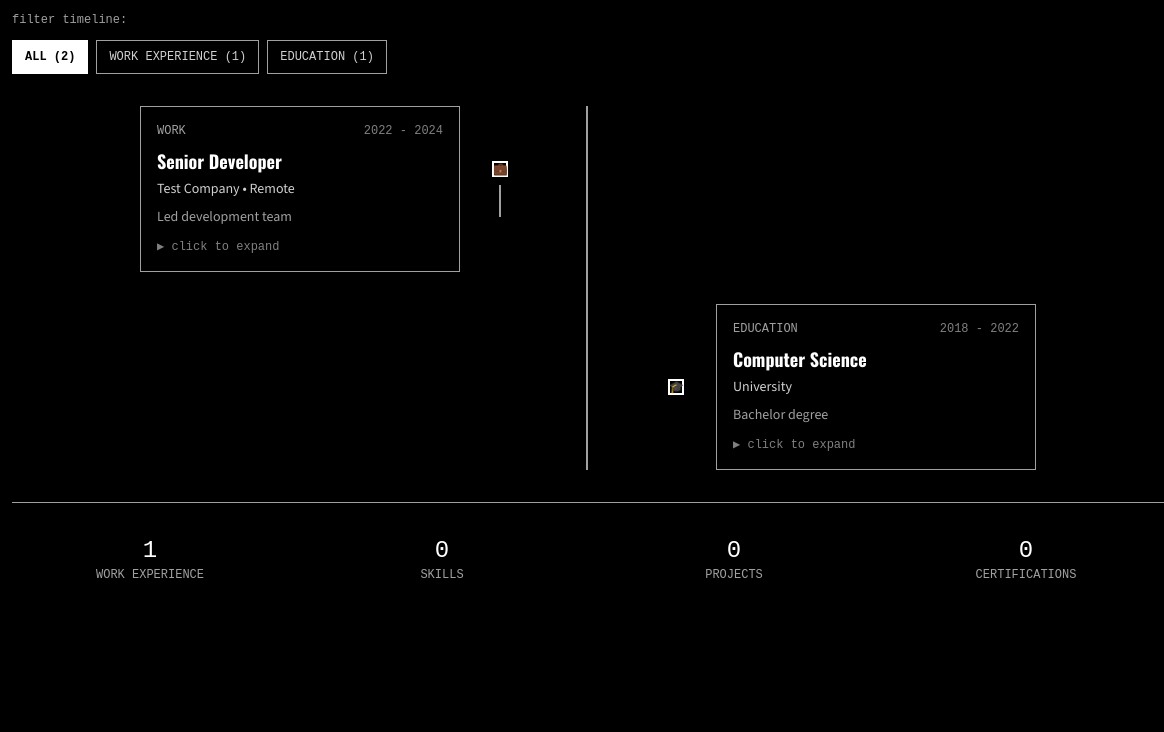
Test: CVTimeline › Filter Functionality › should show all items when ALL filter is selected
Click the button "WORK EXPERIENCE (1)". click: (178, 57)
box: [96,40,259,74]
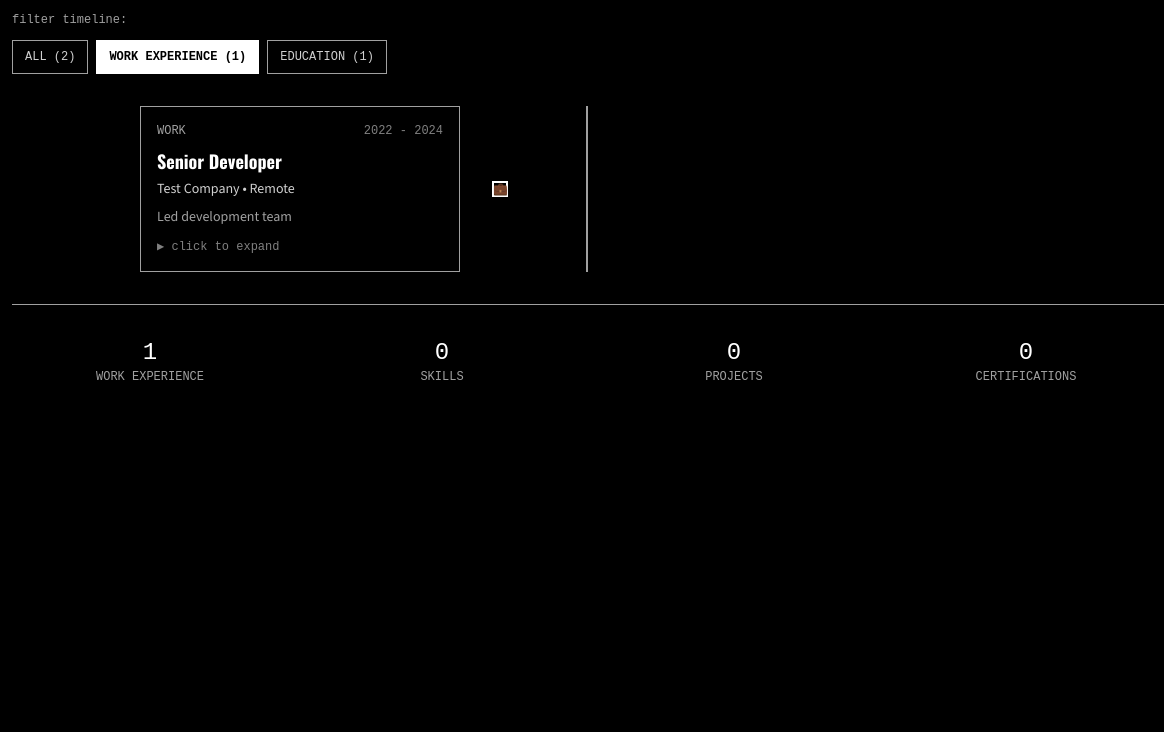
Click the button "ALL (2)". click: (50, 57)
box: [12,40,88,74]
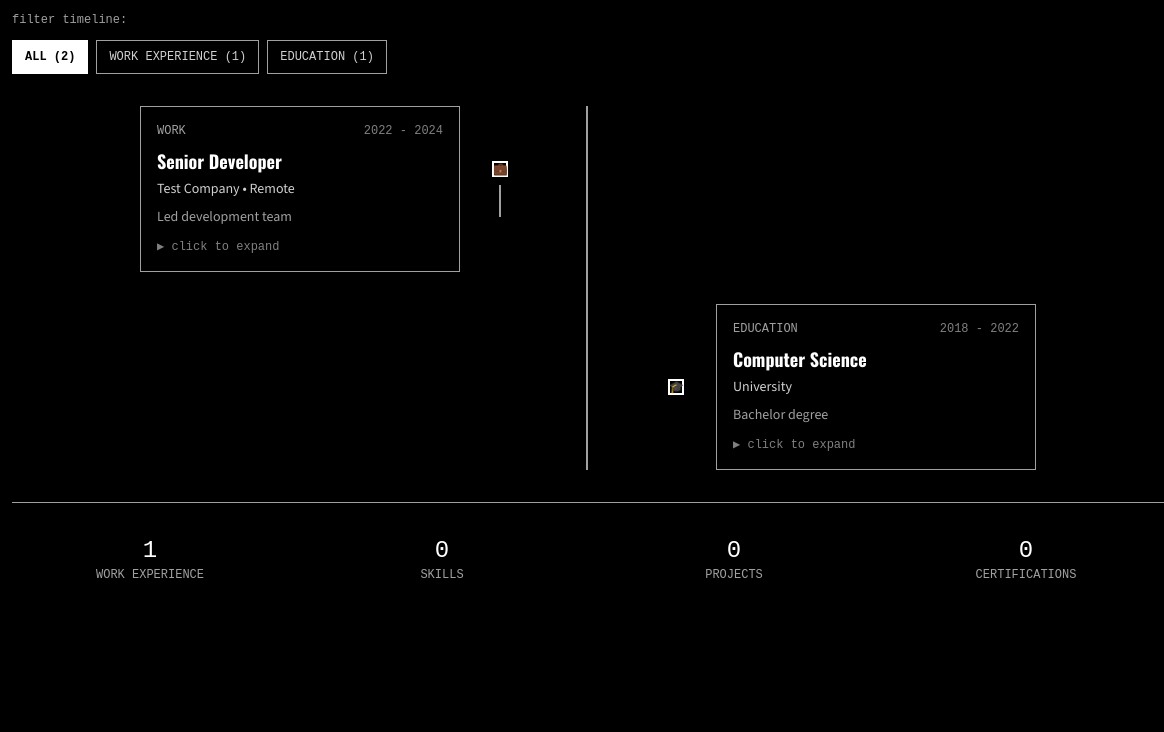
Expected: the heading "Senior Developer" is shown, [157,148,282,174]
Expected: the heading "Computer Science" is shown, [733,346,867,372]
